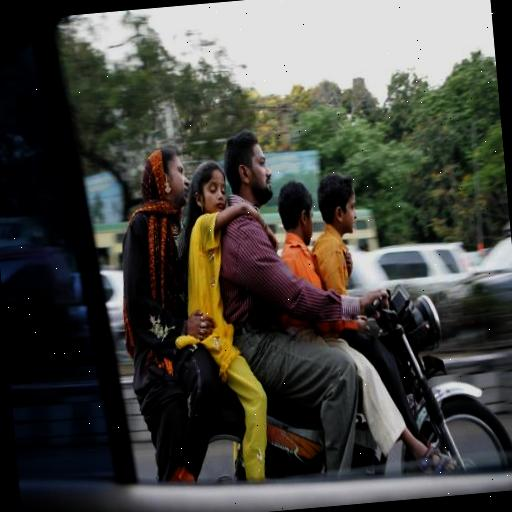no helmet: (221, 120, 294, 214)
triple riding: (97, 76, 512, 502)
